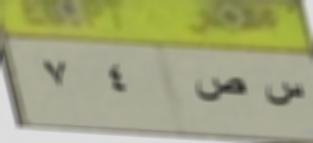4: (100, 58, 133, 99)
7: (38, 53, 72, 89)
saad: (185, 68, 250, 107)
seen: (262, 76, 306, 112)
